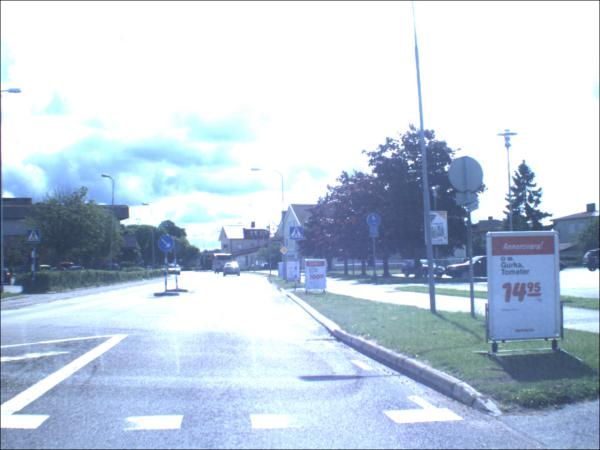PASS_RIGHT_SIDE: (159, 236, 176, 253)
PEDESTRIAN_CROSSING: (28, 231, 42, 245), (291, 228, 305, 241)
PRIORITY_ROAD: (281, 247, 290, 256)
